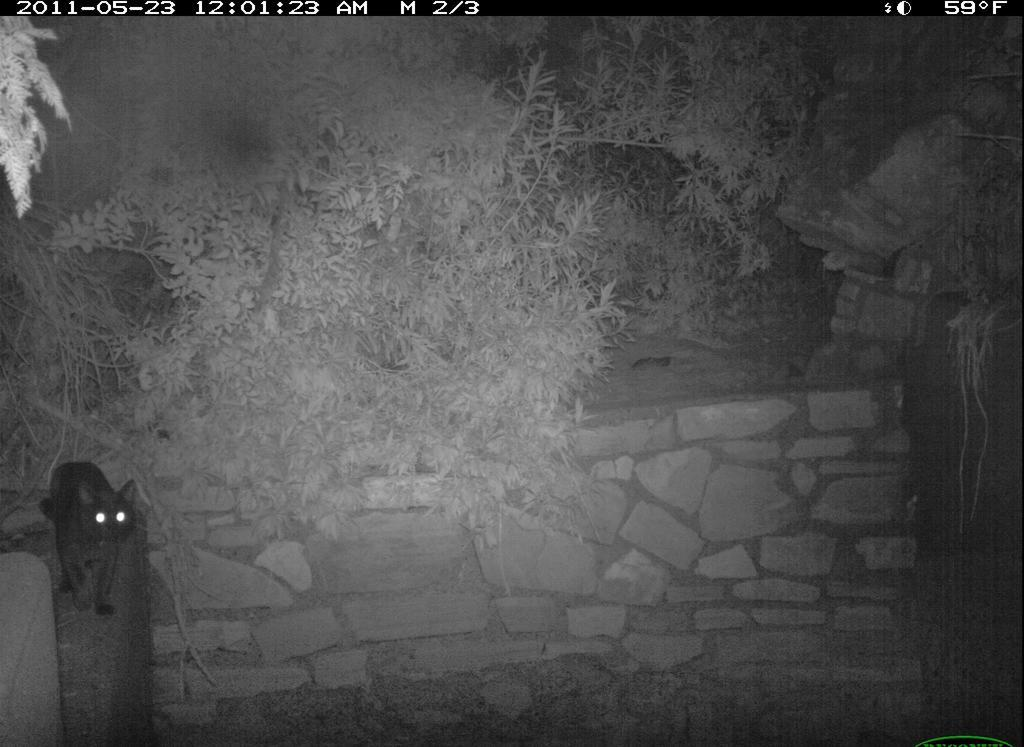cat: (40, 457, 145, 621)
